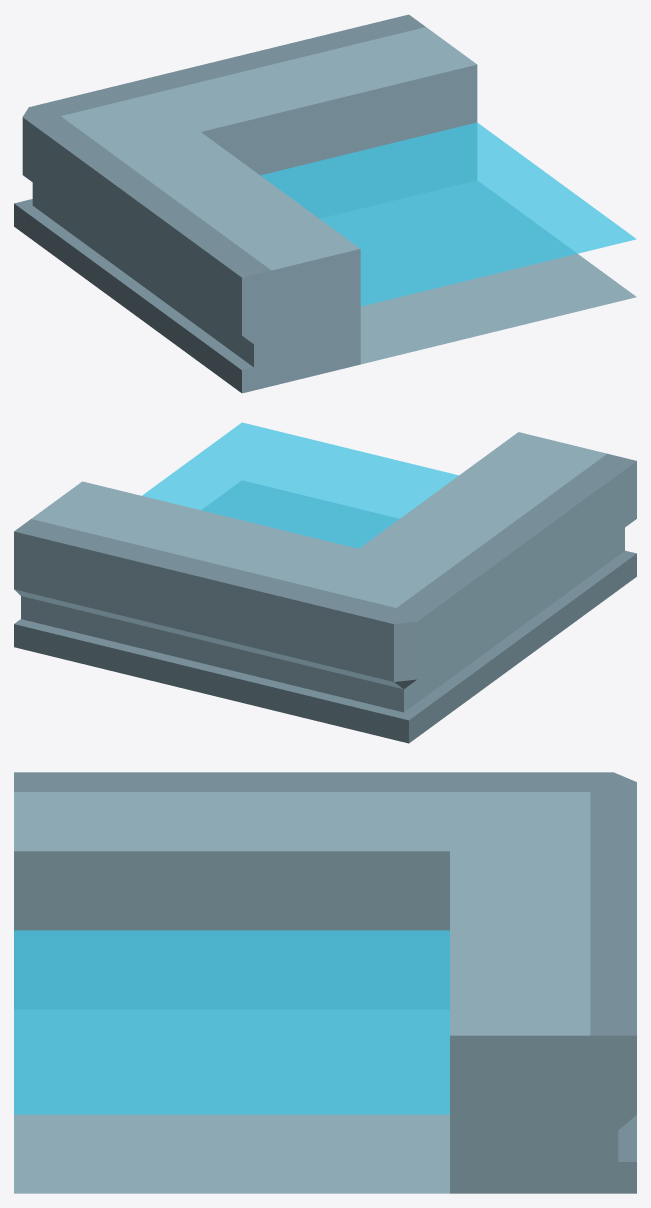
The model's file is fountainCorner.fbx.
3 views of the same model, one above another, from view 1: azimuth 30°, elevation 25°; view 2: azimuth 150°, elevation 25°; view 3: azimuth 270°, elevation 25° (orthographic). The views are drawn at different scales.
Visible parts, largest first — view 1: fountainCorner; view 2: fountainCorner; view 3: fountainCorner.
Part boxes in pixels (x1,y1,x2,y2): fountainCorner: [14, 14, 636, 393]; fountainCorner: [14, 422, 636, 743]; fountainCorner: [14, 772, 636, 1193].
Size of the model in its own units: 10 by 2.8 by 10.
